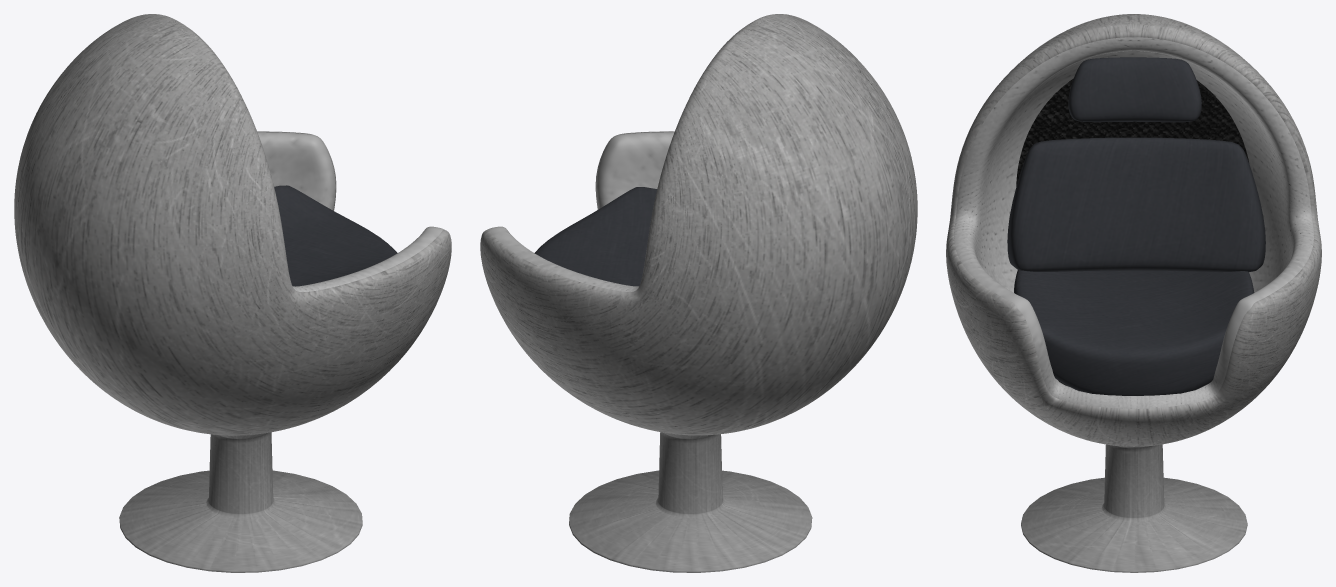
File: Chair.fbx
The picture shows the model from 3 angles, left to right: view 1: azimuth 30°, elevation 25°; view 2: azimuth 150°, elevation 25°; view 3: azimuth 270°, elevation 25°; orthographic projection. The views are drawn at different scales.
Parts seen in each view (by area): view 1: ChairCushion_Low, Chair Foot_Low; view 2: ChairCushion_Low, Chair Foot_Low; view 3: ChairCushion_Low, Chair Foot_Low.
Boxes of the visible parts, x1=… form: ChairCushion_Low: x1=14, y1=14, x2=451, y2=435; Chair Foot_Low: x1=119, y1=432, x2=362, y2=572; ChairCushion_Low: x1=480, y1=14, x2=917, y2=435; Chair Foot_Low: x1=569, y1=432, x2=812, y2=572; ChairCushion_Low: x1=946, y1=14, x2=1321, y2=446; Chair Foot_Low: x1=1021, y1=444, x2=1247, y2=572.
Size of the model in its own units: 108 by 148 by 106.
1 material, 1 textured.
